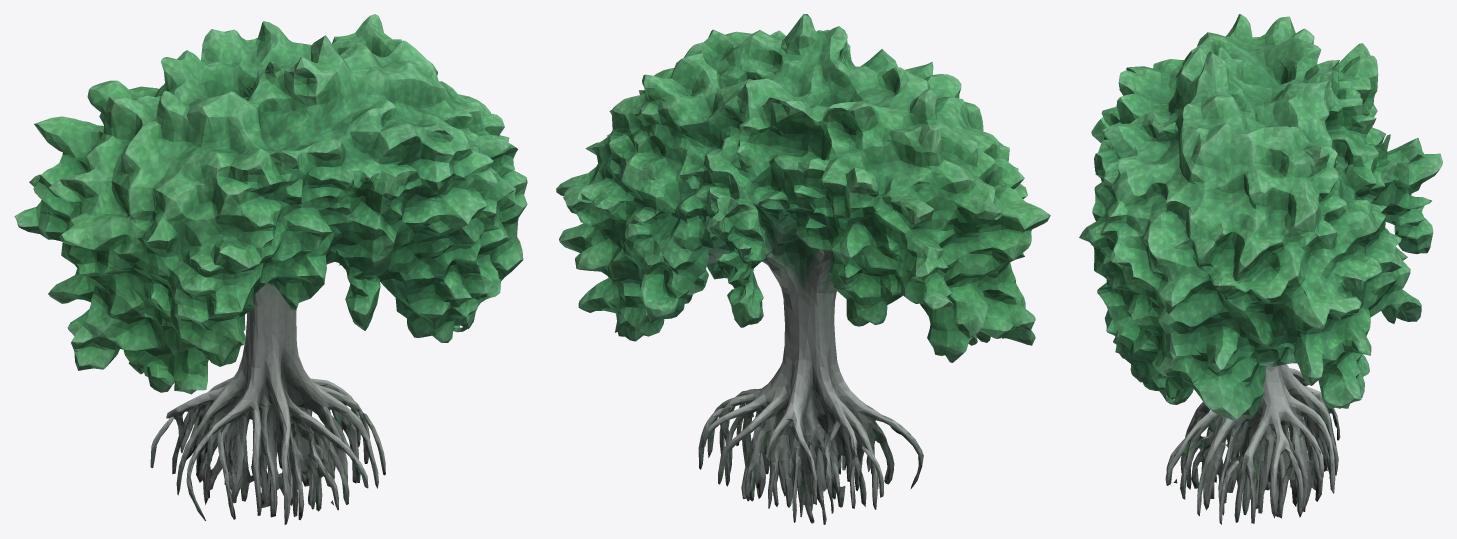
File: tree.glb
3 renders of one model, left to right at view 1: azimuth 30°, elevation 25°; view 2: azimuth 150°, elevation 25°; view 3: azimuth 270°, elevation 25°, orthographic. The views are drawn at different scales.
Parts seen in each view (by area): view 1: world; view 2: world; view 3: world.
Part boxes in pixels (x1=…): world: x1=14, y1=14, x2=527, y2=524; world: x1=556, y1=14, x2=1050, y2=524; world: x1=1079, y1=14, x2=1442, y2=524.
Size of the model in its own units: 0.9996 by 0.9855 by 0.7125.
1 material, 1 textured.
